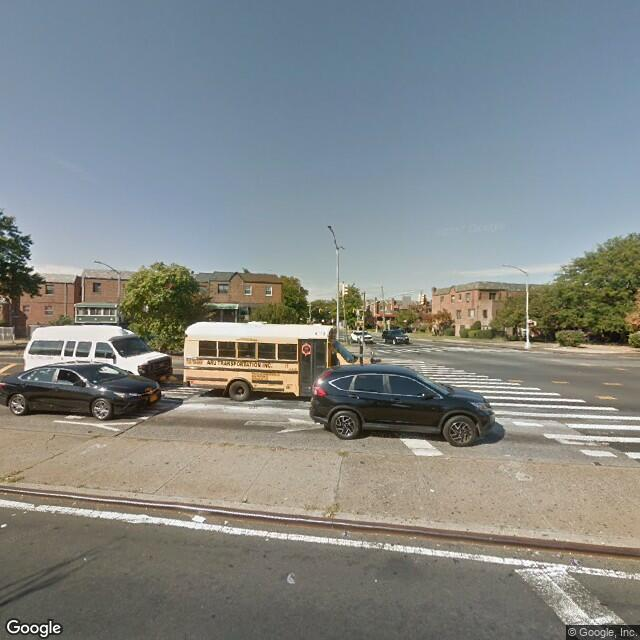litter: (187, 511, 210, 524)
